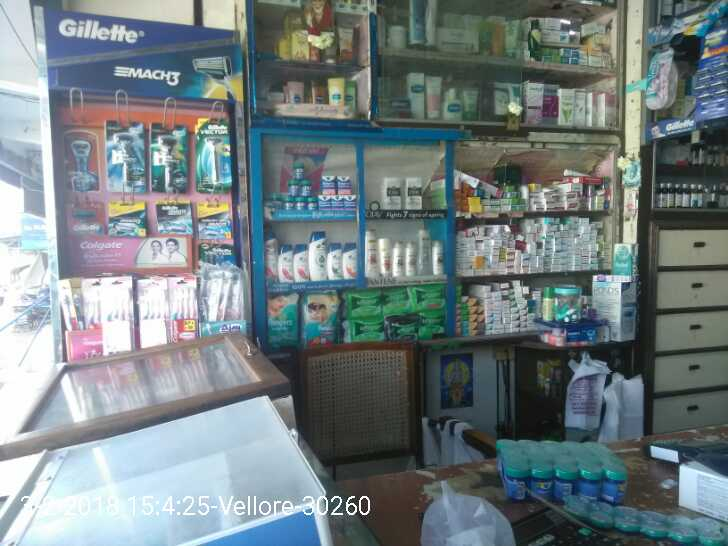oralcare: (205, 272, 247, 342)
vicks: (497, 437, 629, 501), (570, 504, 726, 545), (263, 158, 358, 211)
